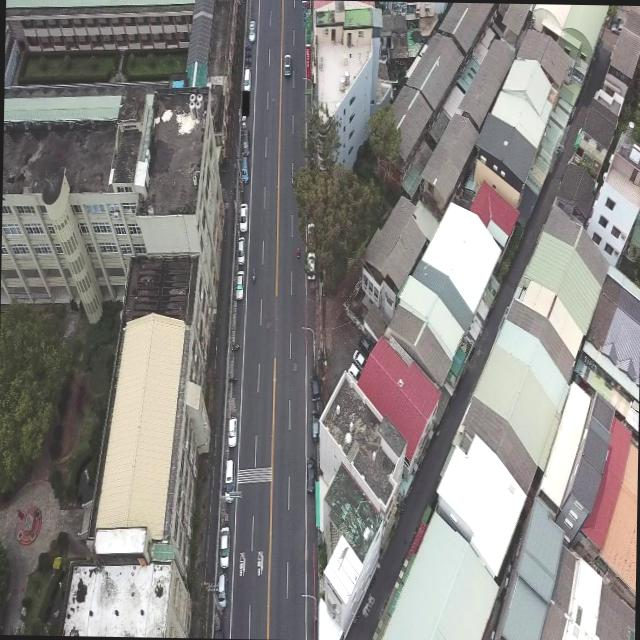car: (218, 526, 229, 568), (216, 574, 228, 608), (306, 456, 316, 493), (309, 373, 321, 401), (310, 409, 320, 441), (224, 458, 233, 492), (238, 202, 248, 232), (227, 416, 237, 446), (240, 125, 250, 155), (234, 270, 243, 300), (306, 251, 315, 279), (236, 237, 244, 264), (242, 66, 250, 92), (240, 158, 248, 184), (283, 54, 291, 76), (248, 20, 255, 41), (610, 19, 620, 33)
